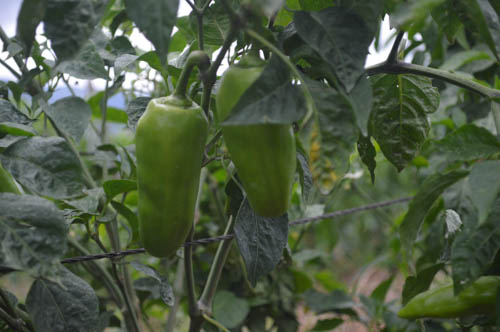ChiliPepper: (217, 66, 299, 220), (135, 102, 208, 262), (397, 277, 495, 322)
